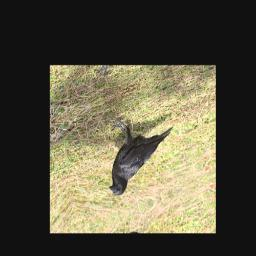Crow: (92, 95, 187, 199)
